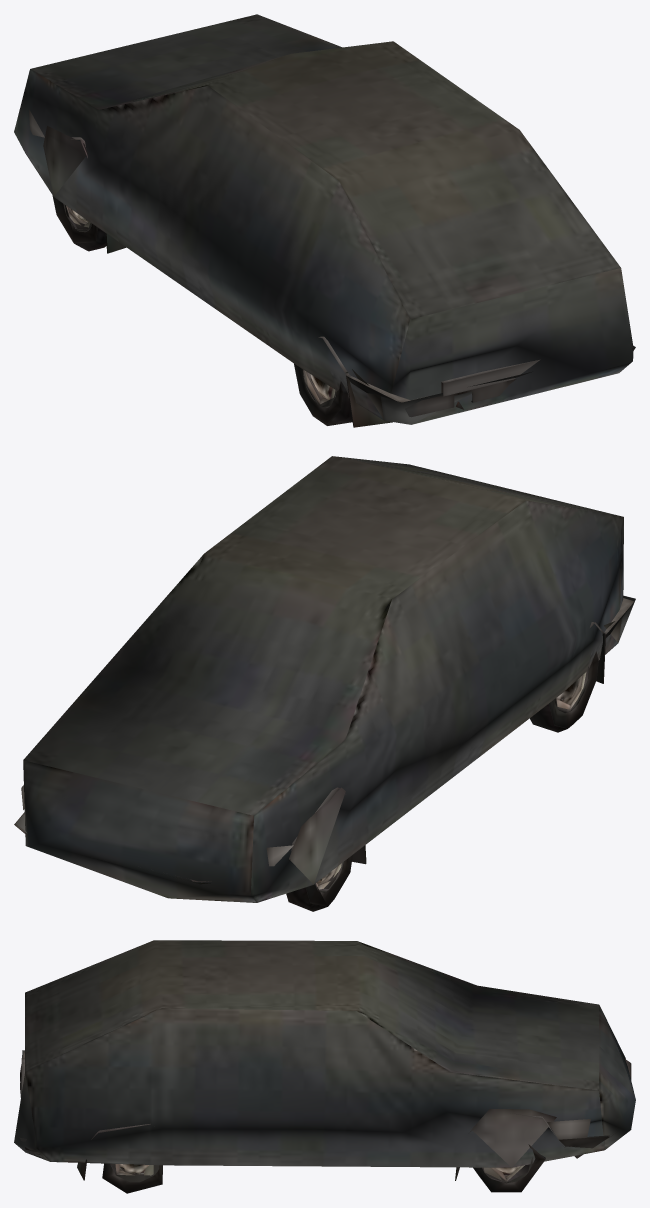
The model's file is car-covered.lite.5edc4f1c.glb.
3 views of the same model, one above another, from view 1: azimuth 30°, elevation 25°; view 2: azimuth 150°, elevation 25°; view 3: azimuth 270°, elevation 25° (orthographic). The views are drawn at different scales.
Visible parts, largest first — view 1: model; view 2: model; view 3: model.
Boxes of the visible parts, x1,y1,x2,y2 form: model: (14,14,635,427); model: (14,456,635,911); model: (14,940,635,1193).
Bounding box in the file's own units: 1.74 × 1.35 × 4.32.
Materials: 2 (2 with a texture image).
